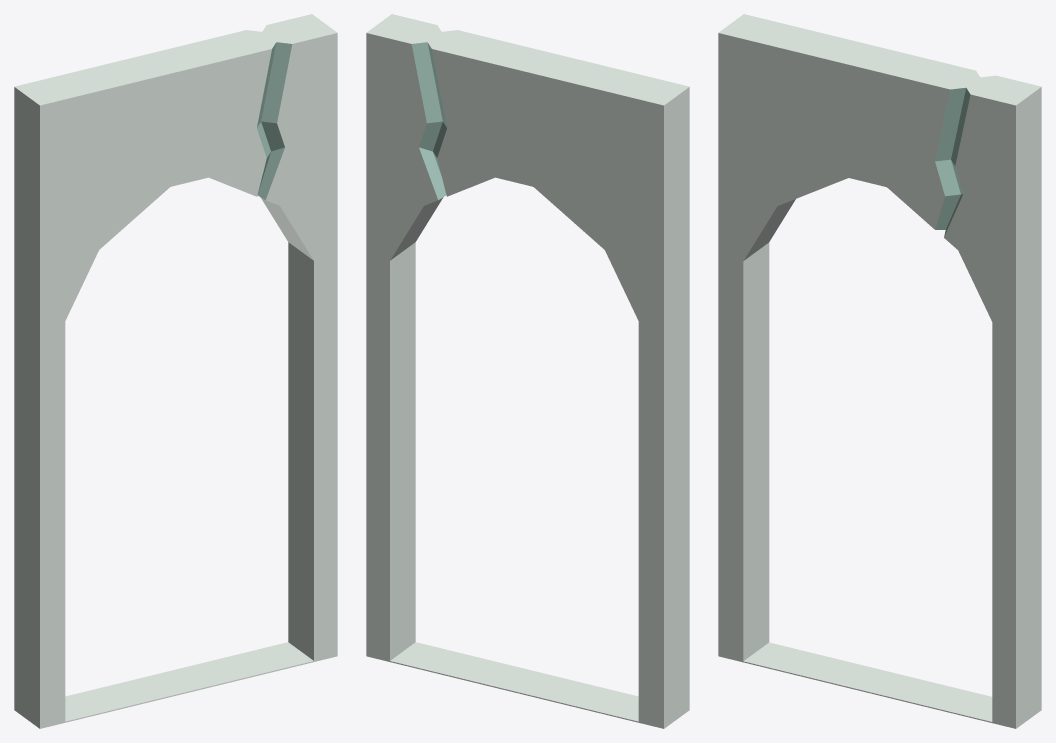
Rendered from CrackedDoorframe.glb.
3 views of the same model, side by side, from view 1: azimuth 30°, elevation 25°; view 2: azimuth 150°, elevation 25°; view 3: azimuth 330°, elevation 25° (orthographic).
Parts seen in each view (by area): view 1: wall_cracked_door; view 2: wall_cracked_door; view 3: wall_cracked_door.
Boxes of the visible parts, bbox=[...] form: wall_cracked_door: bbox=[14, 14, 337, 728]; wall_cracked_door: bbox=[366, 14, 689, 728]; wall_cracked_door: bbox=[718, 14, 1041, 728].
Size of what is drawn, in the model's own units: 2 by 4 by 0.3.
Materials: 1 (1 with a texture image).
